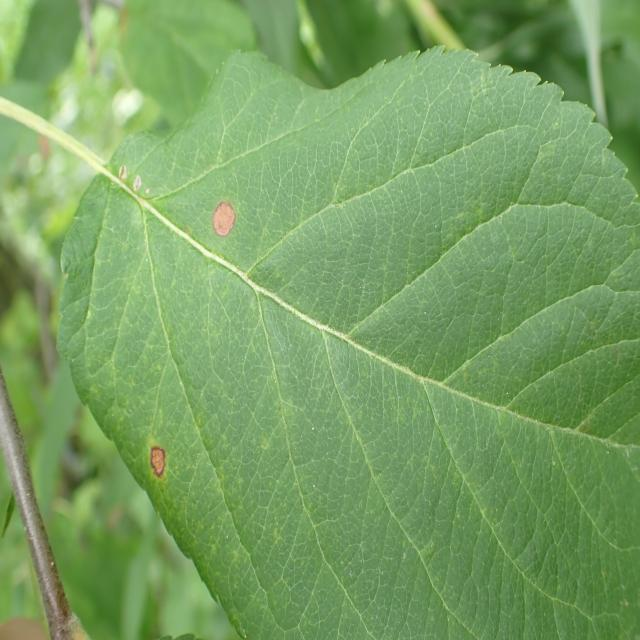Black Rot: (190, 188, 246, 264), (130, 434, 183, 499)
